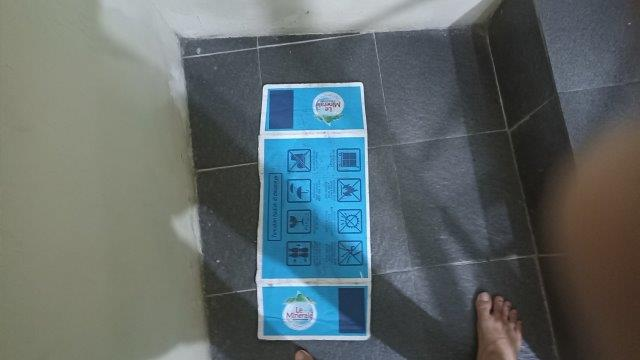kardus: (259, 84, 369, 341)
